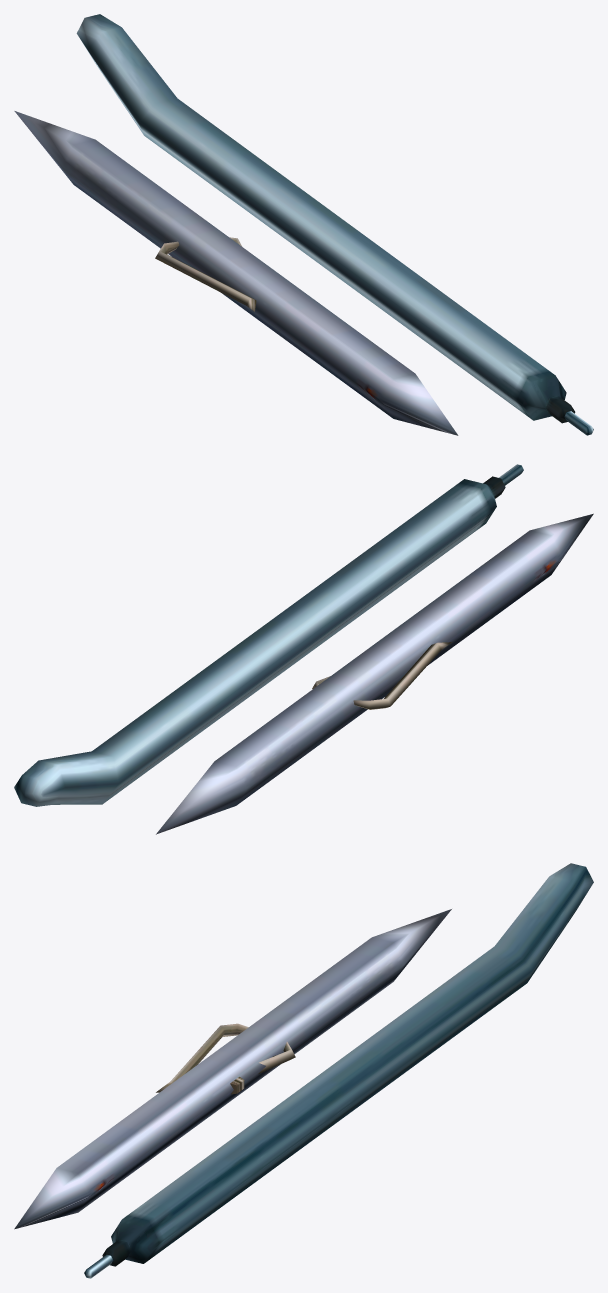
The model's file is eqp_writing_utensils_l0.fbx.
3 renders of one model, top to bottom at view 1: azimuth 30°, elevation 25°; view 2: azimuth 150°, elevation 25°; view 3: azimuth 330°, elevation 25°, orthographic.
Parts seen in each view (by area): view 1: mesh_node; view 2: mesh_node; view 3: mesh_node.
Boxes of the visible parts, x1=… form: mesh_node: x1=14, y1=14, x2=593, y2=435; mesh_node: x1=14, y1=464, x2=593, y2=834; mesh_node: x1=14, y1=863, x2=593, y2=1278.
Bounding box in the file's own units: 0.0503 × 0.0197 × 0.2517.
1 material, 1 textured.
